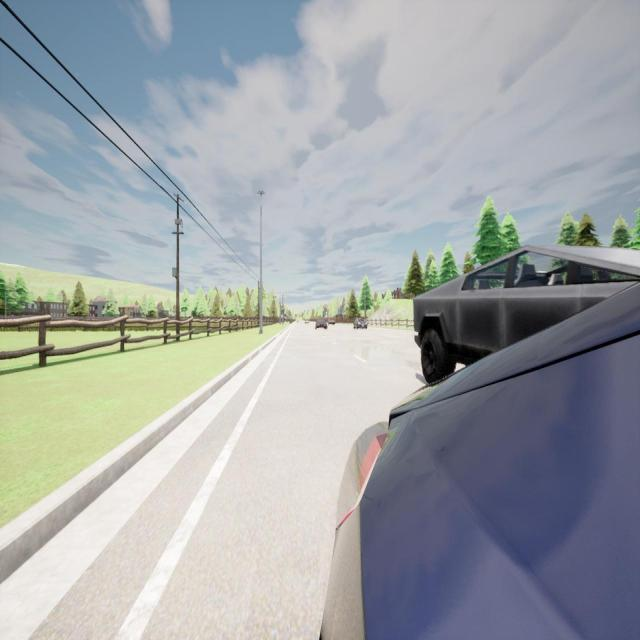Vehicle: (330, 285, 640, 637), (412, 245, 638, 385), (353, 318, 368, 330), (315, 320, 327, 329), (328, 320, 336, 325), (305, 320, 309, 324)
